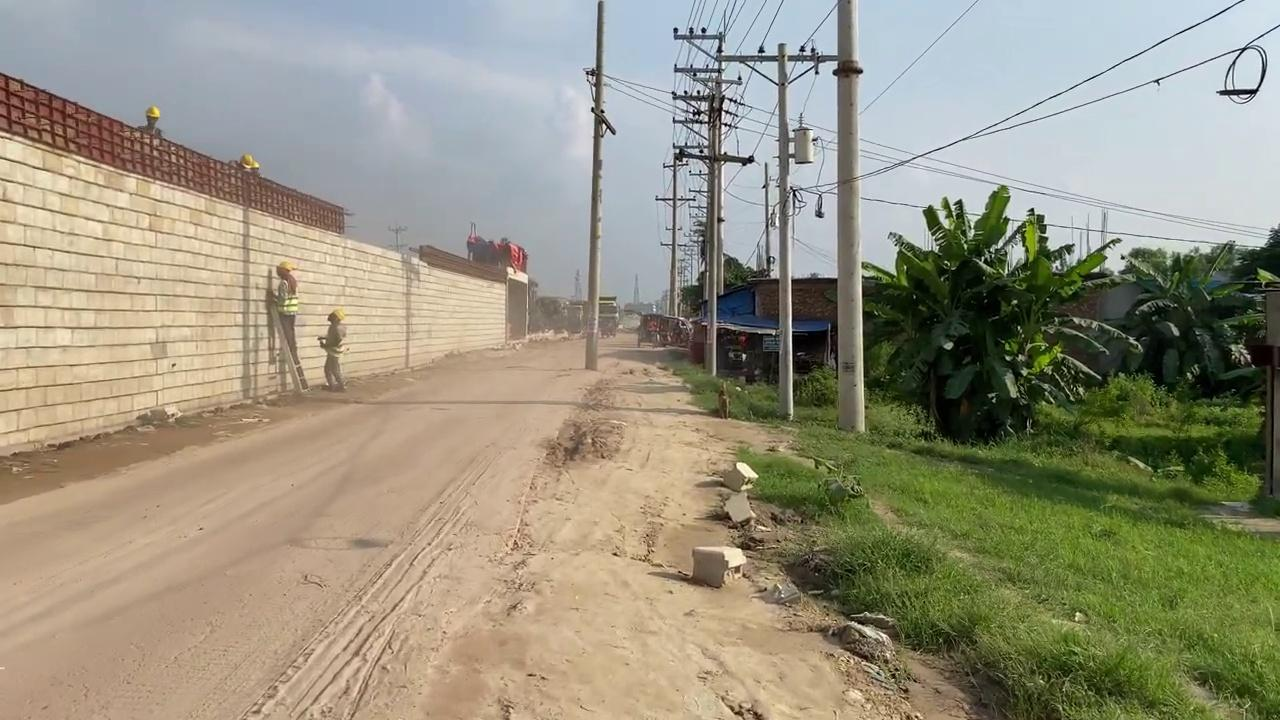Dog: (715, 380, 731, 419)
Muddy road: (1, 329, 990, 718)
Obstacle: (691, 544, 746, 587)
Pole: (833, 0, 865, 433), (584, 1, 606, 370), (775, 42, 794, 420), (704, 69, 723, 376)
Traffic-sign: (860, 183, 1138, 444), (1113, 239, 1265, 396)
Tree: (533, 294, 618, 338), (465, 221, 528, 274), (637, 312, 689, 348)
